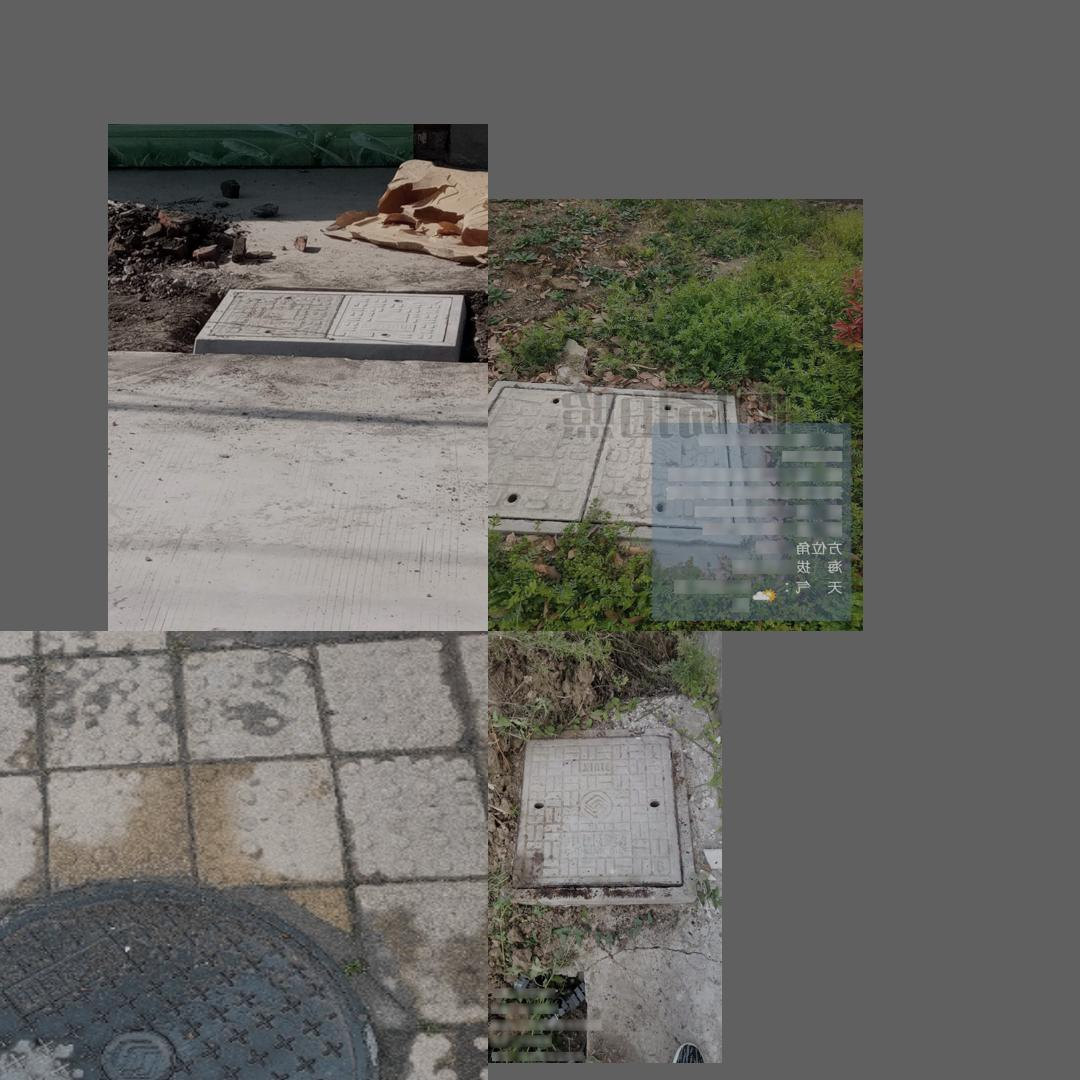good: (0, 881, 383, 1080), (488, 380, 751, 545), (507, 728, 699, 902), (195, 289, 465, 347)
